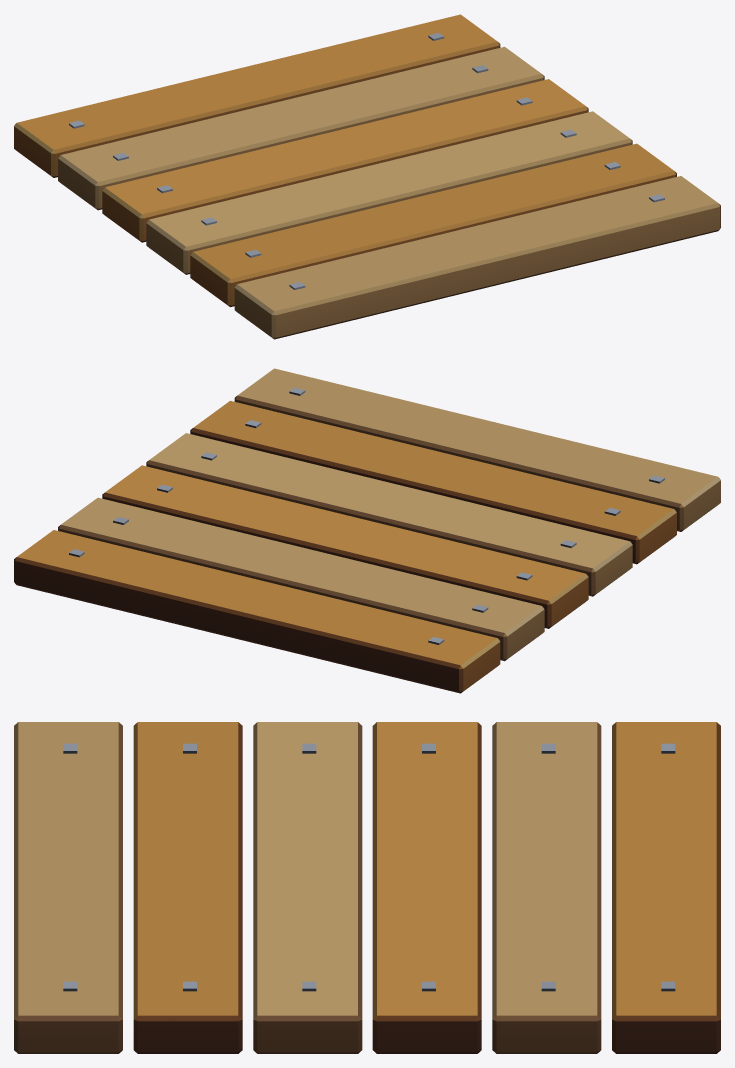
The model's file is dock_plank.glb.
3 views of the same model, one above another, from view 1: azimuth 30°, elevation 25°; view 2: azimuth 150°, elevation 25°; view 3: azimuth 270°, elevation 25° (orthographic). The views are drawn at different scales.
Visible parts, largest first — view 1: dock_plank; view 2: dock_plank; view 3: dock_plank.
Boxes of the visible parts, <box> form: dock_plank: <box>14,14,720,339</box>; dock_plank: <box>14,368,720,693</box>; dock_plank: <box>14,722,720,1053</box>.
Size of the model in its own units: 1 by 0.064 by 1.
